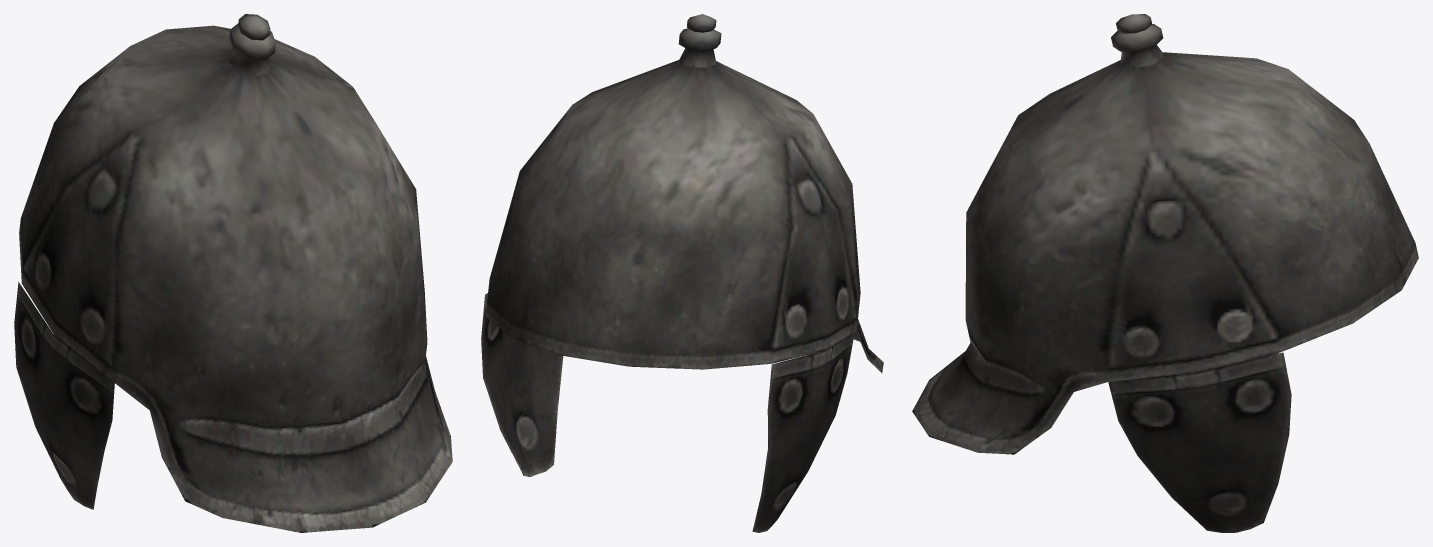
The model's file is helm_celt_helmet_ciumesti_01.glb.
3 views of the same model, side by side, from view 1: azimuth 30°, elevation 25°; view 2: azimuth 150°, elevation 25°; view 3: azimuth 270°, elevation 25° (orthographic). The views are drawn at different scales.
Visible parts, largest first — view 1: helm_celt_helmet_ciumesti_01_part0; view 2: helm_celt_helmet_ciumesti_01_part0; view 3: helm_celt_helmet_ciumesti_01_part0.
Part boxes in pixels (box(x1,y1,x2,y2)): helm_celt_helmet_ciumesti_01_part0: box(14, 14, 452, 532); helm_celt_helmet_ciumesti_01_part0: box(481, 14, 883, 532); helm_celt_helmet_ciumesti_01_part0: box(912, 14, 1418, 532).
Size of the model in its own units: 0.4423 by 0.6218 by 0.6176.
Materials: 1 (1 with a texture image).
